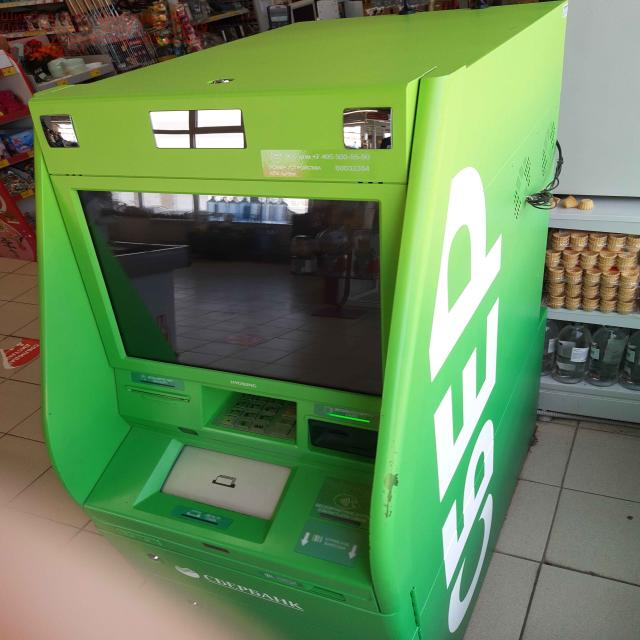bank: (30, 0, 570, 640)
